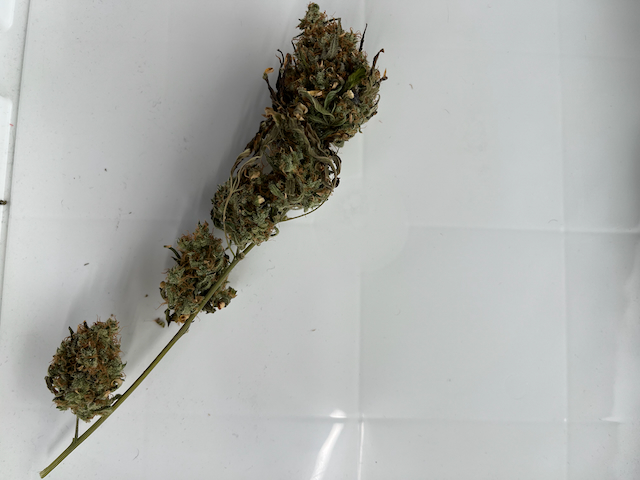Bud: (268, 9, 378, 147), (243, 116, 334, 212), (48, 318, 126, 418), (160, 229, 231, 322), (207, 174, 273, 244)
Leaf: (323, 26, 338, 61), (260, 61, 273, 99), (345, 65, 367, 86), (323, 84, 335, 111)
Leaf-Attachment: (219, 170, 246, 200)
Stem: (127, 323, 197, 386), (38, 425, 76, 476), (230, 237, 260, 276), (111, 382, 136, 413), (64, 416, 86, 446), (89, 409, 123, 426), (276, 208, 326, 218), (70, 425, 93, 444)
